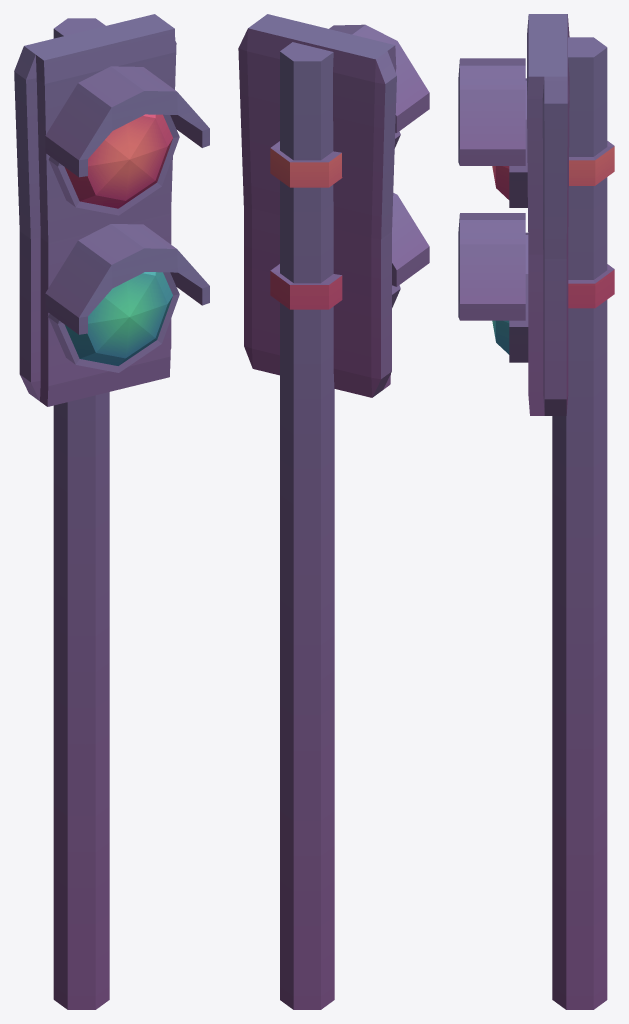
Rendered from traffic_light.obj.
3 views of the same model, side by side, from view 1: azimuth 30°, elevation 25°; view 2: azimuth 150°, elevation 25°; view 3: azimuth 270°, elevation 25° (orthographic). The views are drawn at different scales.
Visible parts, largest first — view 1: traffic_light; view 2: traffic_light; view 3: traffic_light.
Part boxes in pixels (x1,y1,x2,y2): traffic_light: [14, 14, 209, 1009]; traffic_light: [238, 14, 429, 1009]; traffic_light: [458, 14, 614, 1009].
Size of the model in its own units: 1.93 by 11.91 by 1.77.
Materials: 1 (1 with a texture image).
